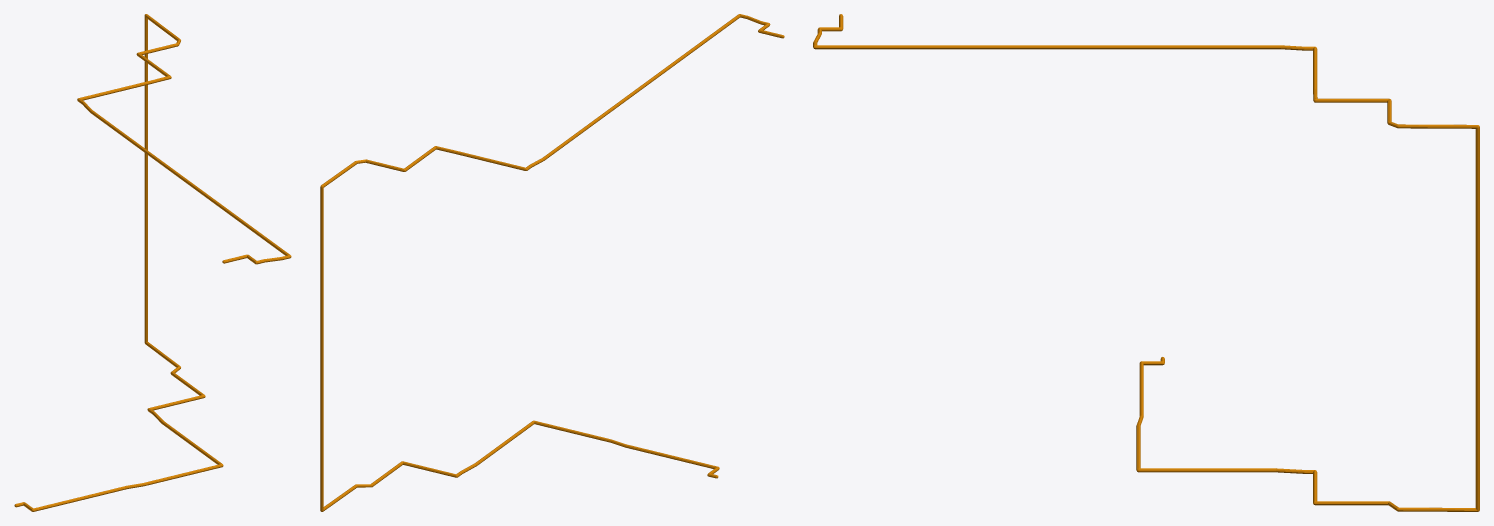
3 renders of one model, left to right at view 1: azimuth 30°, elevation 25°; view 2: azimuth 150°, elevation 25°; view 3: azimuth 270°, elevation 25°, orthographic. The views are drawn at different scales.
Bounding box in the file's own units: 1713 × 2020 × 3155.
